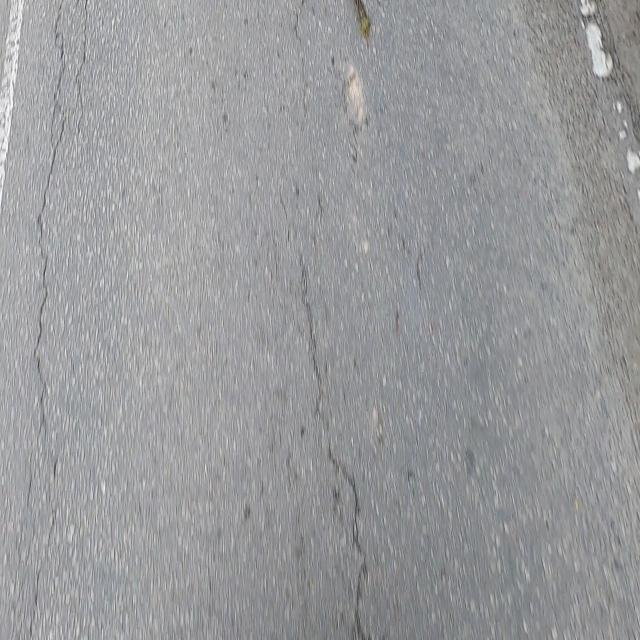Retak-Memanjang: (295, 264, 368, 640), (31, 1, 68, 442), (74, 2, 92, 133)
